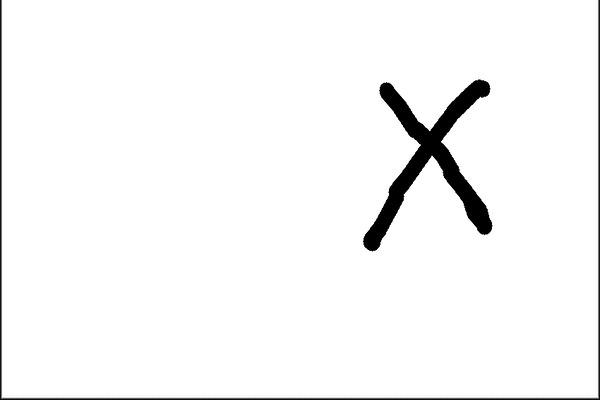X: (341, 55, 538, 275)
